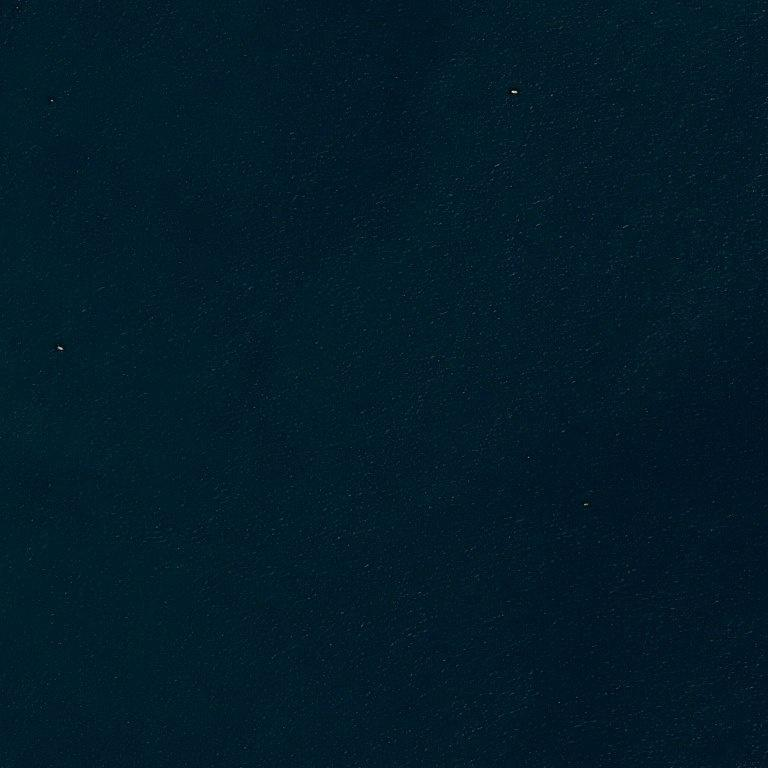ship: (512, 5, 518, 9), (58, 346, 62, 350), (62, 349, 63, 351), (511, 91, 512, 92), (517, 77, 518, 78), (57, 345, 58, 346), (58, 346, 59, 347), (515, 91, 515, 91)
